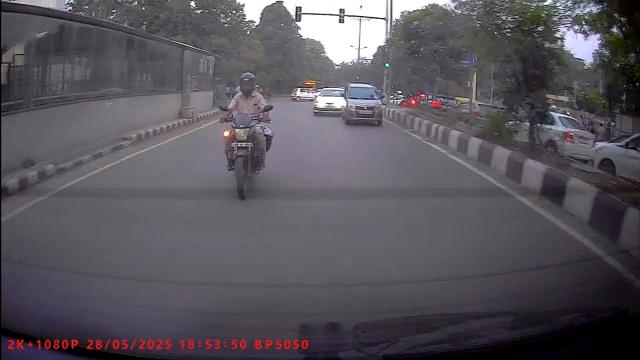motorcycle_with_helmet: (220, 69, 275, 202)
